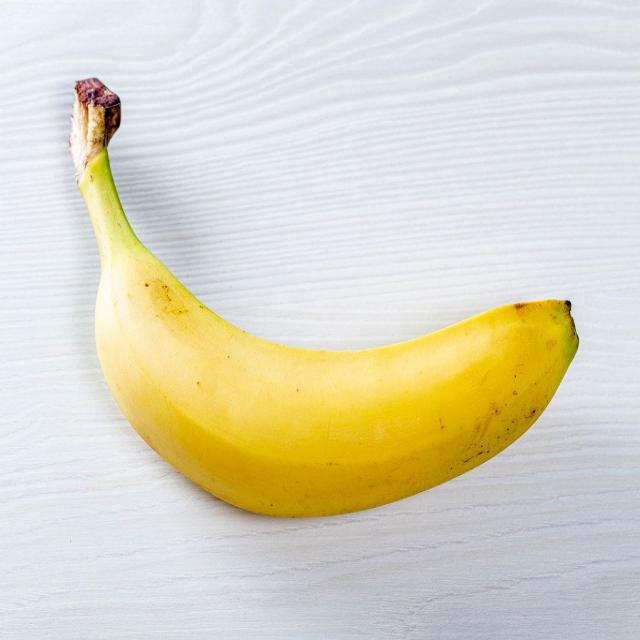Banana: (65, 70, 581, 511)
